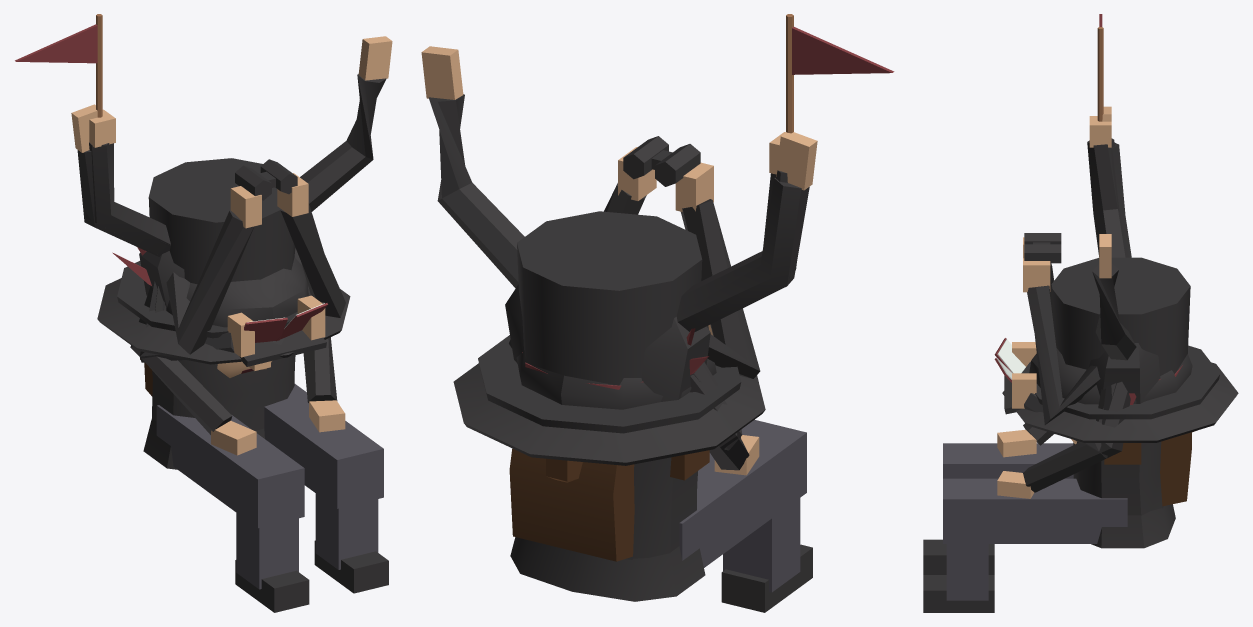
Rendered from downs-crowd.glb.
3 views of the same model, side by side, from view 1: azimuth 30°, elevation 25°; view 2: azimuth 150°, elevation 25°; view 3: azimuth 270°, elevation 25° (orthographic). The views are drawn at different scales.
Parts seen in each view (by area): view 1: dn_fan_legs_legs, dn_fan_tophat_hat, dn_fan_bino_coat, dn_fan_body_coat, dn_fan_cap_hat, dn_fan_arms_coat, dn_fan_arm1_coat, dn_fan_legs_black, dn_fan_sunhat_hat, dn_fan_lap_coat, dn_fan_arms_skin, dn_fan_bino_skin (+10 smaller); view 2: dn_fan_tophat_hat, dn_fan_legs_legs, dn_fan_arms_coat, dn_fan_sunhat_hat, dn_fan_hair_long_hair, dn_fan_body_coat, dn_fan_boater_hat, dn_fan_body2_coat, dn_fan_bino_coat, dn_fan_cap_hat, dn_fan_arms_skin, dn_fan_arm1_band (+9 smaller); view 3: dn_fan_legs_legs, dn_fan_tophat_hat, dn_fan_body_coat, dn_fan_sunhat_hat, dn_fan_arm1_coat, dn_fan_bino_coat, dn_fan_boater_hat, dn_fan_arms_coat, dn_fan_legs_black, dn_fan_hair_long_hair, dn_fan_cap_hat, dn_fan_body2_coat (+10 smaller).
Part boxes in pixels (box(x1,y1,x2,y2)): dn_fan_legs_legs: box(156, 384, 383, 589); dn_fan_tophat_hat: box(148, 158, 295, 284); dn_fan_bino_coat: box(166, 203, 345, 354); dn_fan_body_coat: box(139, 248, 295, 430); dn_fan_cap_hat: box(147, 257, 326, 366); dn_fan_arms_coat: box(77, 74, 386, 256); dn_fan_arm1_coat: box(85, 142, 337, 400); dn_fan_legs_black: box(235, 540, 388, 612); dn_fan_sunhat_hat: box(97, 278, 350, 364); dn_fan_lap_coat: box(130, 281, 333, 434); dn_fan_arms_skin: box(71, 36, 392, 152); dn_fan_bino_skin: box(230, 173, 308, 228); dn_fan_tophat_hat: box(517, 211, 702, 385); dn_fan_legs_legs: box(679, 419, 806, 592); dn_fan_arms_coat: box(428, 94, 809, 331); dn_fan_sunhat_hat: box(453, 363, 765, 465); dn_fan_hair_long_hair: box(509, 448, 709, 561); dn_fan_body_coat: box(505, 284, 710, 559); dn_fan_boater_hat: box(478, 335, 741, 433); dn_fan_body2_coat: box(510, 537, 705, 601); dn_fan_bino_coat: box(604, 183, 760, 378); dn_fan_cap_hat: box(516, 326, 716, 409); dn_fan_arms_skin: box(421, 46, 817, 190); dn_fan_arm1_band: box(792, 27, 894, 74); dn_fan_legs_legs: box(943, 443, 1127, 600); dn_fan_tophat_hat: box(1051, 257, 1190, 375); dn_fan_body_coat: box(1073, 343, 1163, 515); dn_fan_sunhat_hat: box(1002, 362, 1238, 442); dn_fan_arm1_coat: box(1024, 138, 1130, 492); dn_fan_bino_coat: box(1027, 263, 1100, 424); dn_fan_boater_hat: box(1021, 345, 1219, 419); dn_fan_arms_coat: box(1092, 143, 1136, 360); dn_fan_legs_black: box(923, 539, 994, 612); dn_fan_hair_long_hair: box(1104, 432, 1191, 506); dn_fan_cap_hat: box(1004, 348, 1192, 414); dn_fan_body2_coat: box(1091, 504, 1175, 548).
Bounding box in the file's own units: 1.61 × 2.24 × 1.28.
